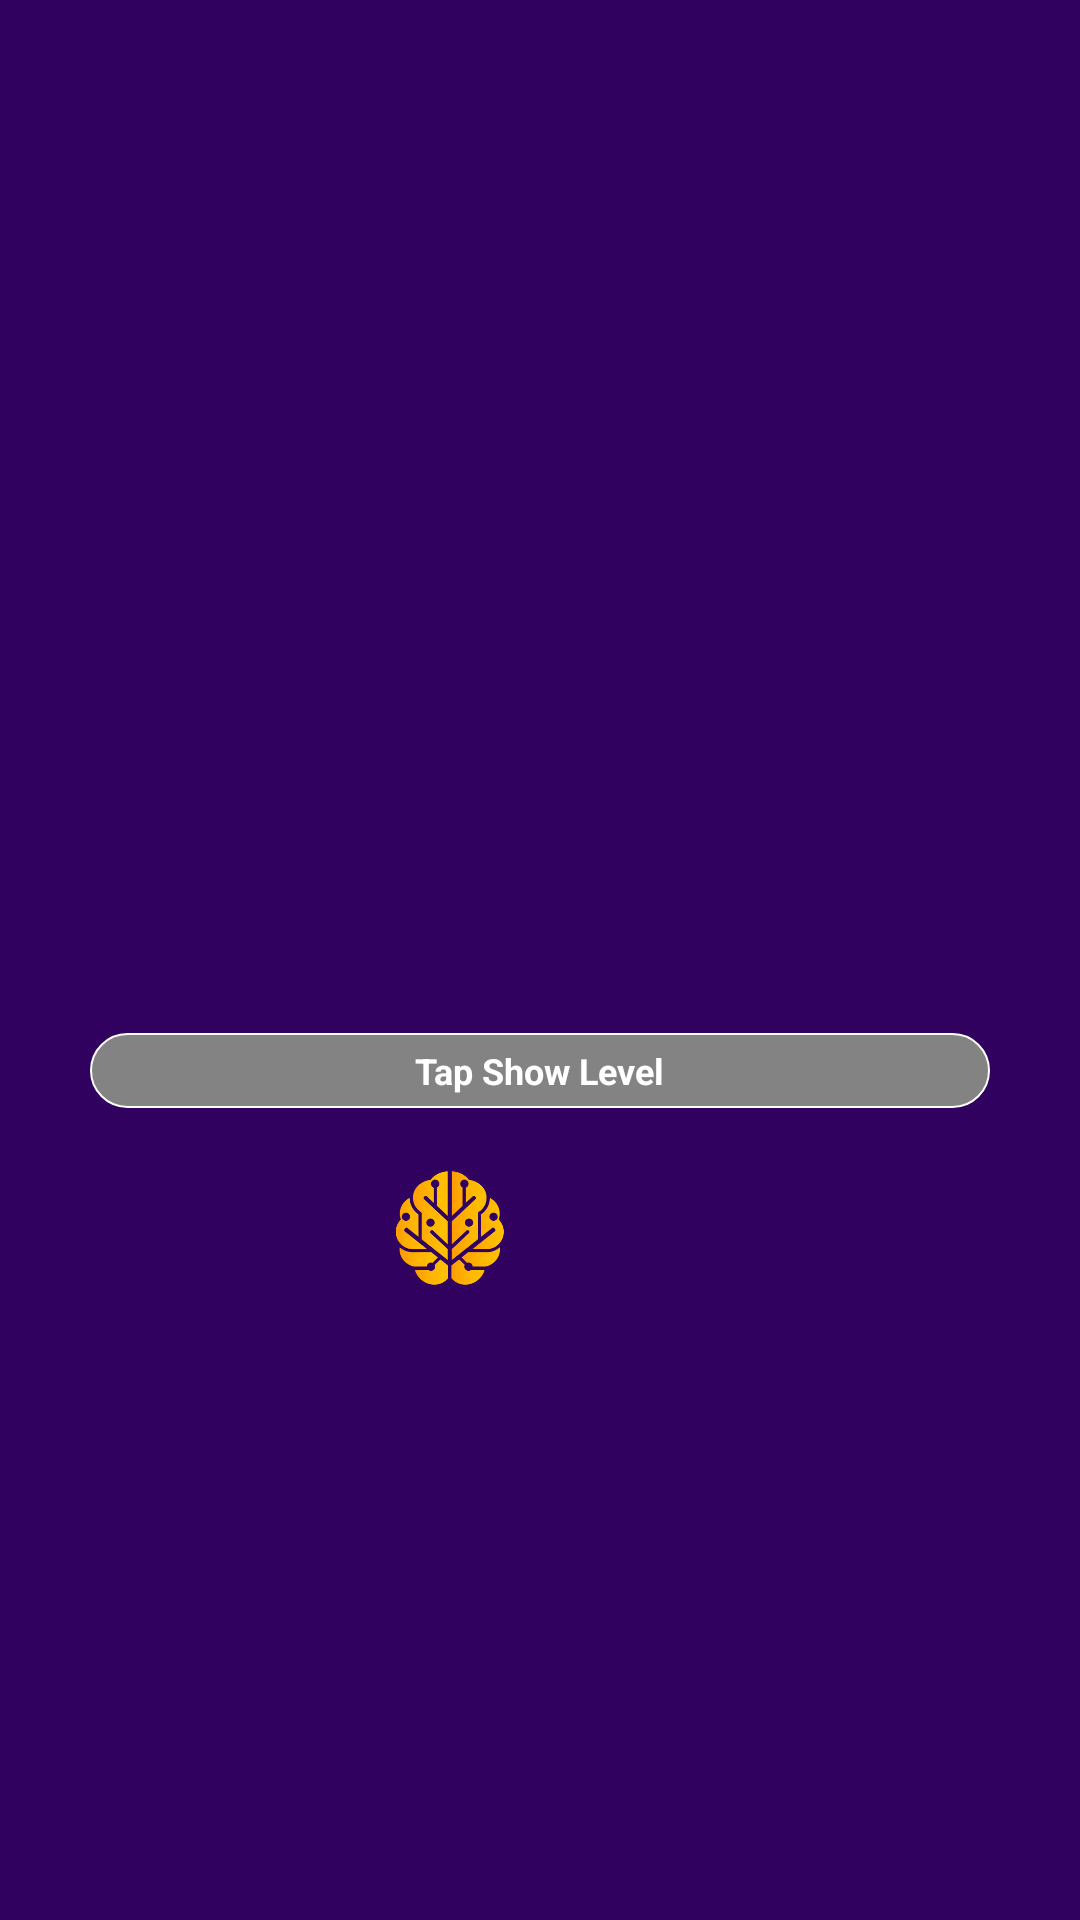

Icons on this 1080 × 1920 Android screen, each with the point to tap as point (x, y):
brain mint: point (450, 1228)
